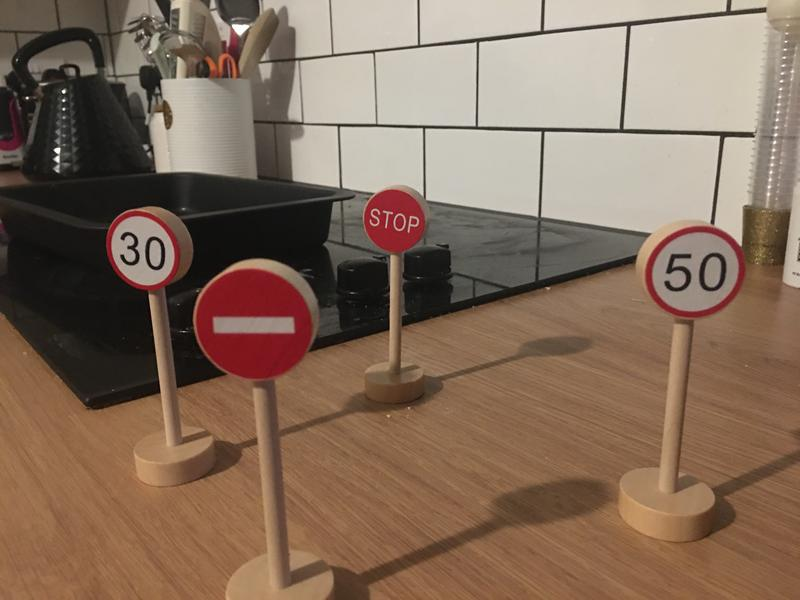Traffic_Sign_30: (107, 209, 178, 290)
Traffic_Sign_50: (648, 226, 745, 321)
Traffic_Sign_No_Entry: (194, 269, 314, 379)
Traffic_Sign_Stop: (363, 190, 426, 251)
